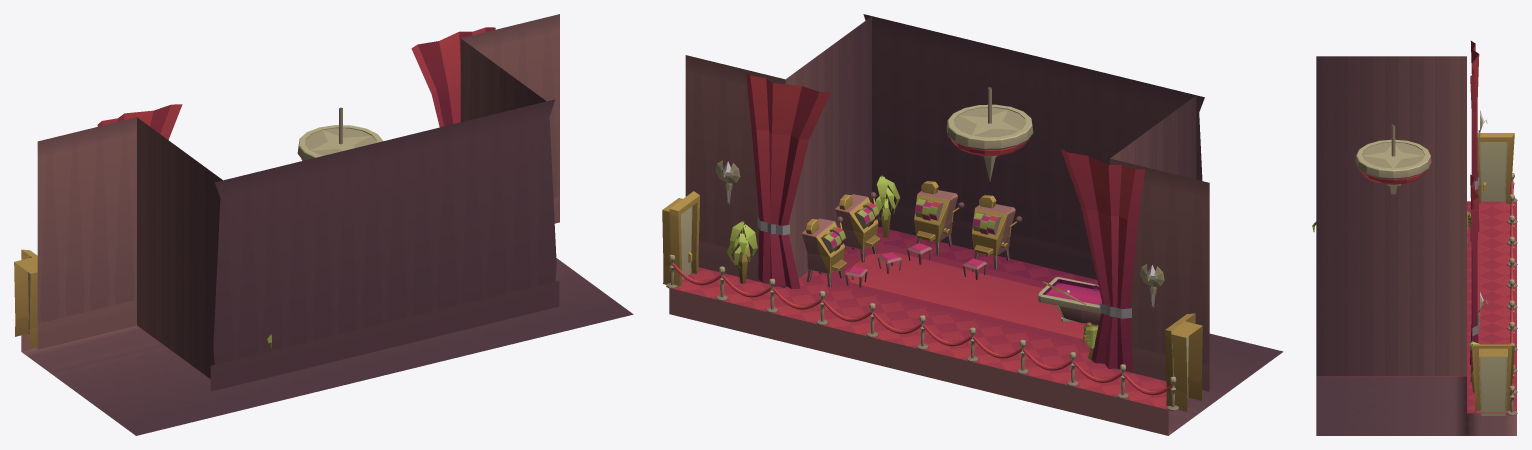
File: SM_CasinoRoom-B.fbx
The picture shows the model from 3 angles, left to right: view 1: azimuth 30°, elevation 25°; view 2: azimuth 150°, elevation 25°; view 3: azimuth 270°, elevation 25°; orthographic projection. The views are drawn at different scales.
Visible parts, largest first — view 1: CasinoRoom_B; view 2: CasinoRoom_B; view 3: CasinoRoom_B.
Part boxes in pixels (x1,y1,x2,y2): CasinoRoom_B: [14, 14, 633, 435]; CasinoRoom_B: [662, 14, 1283, 435]; CasinoRoom_B: [1312, 41, 1517, 435].
Size of the model in its own units: 819 by 2100 by 900.
